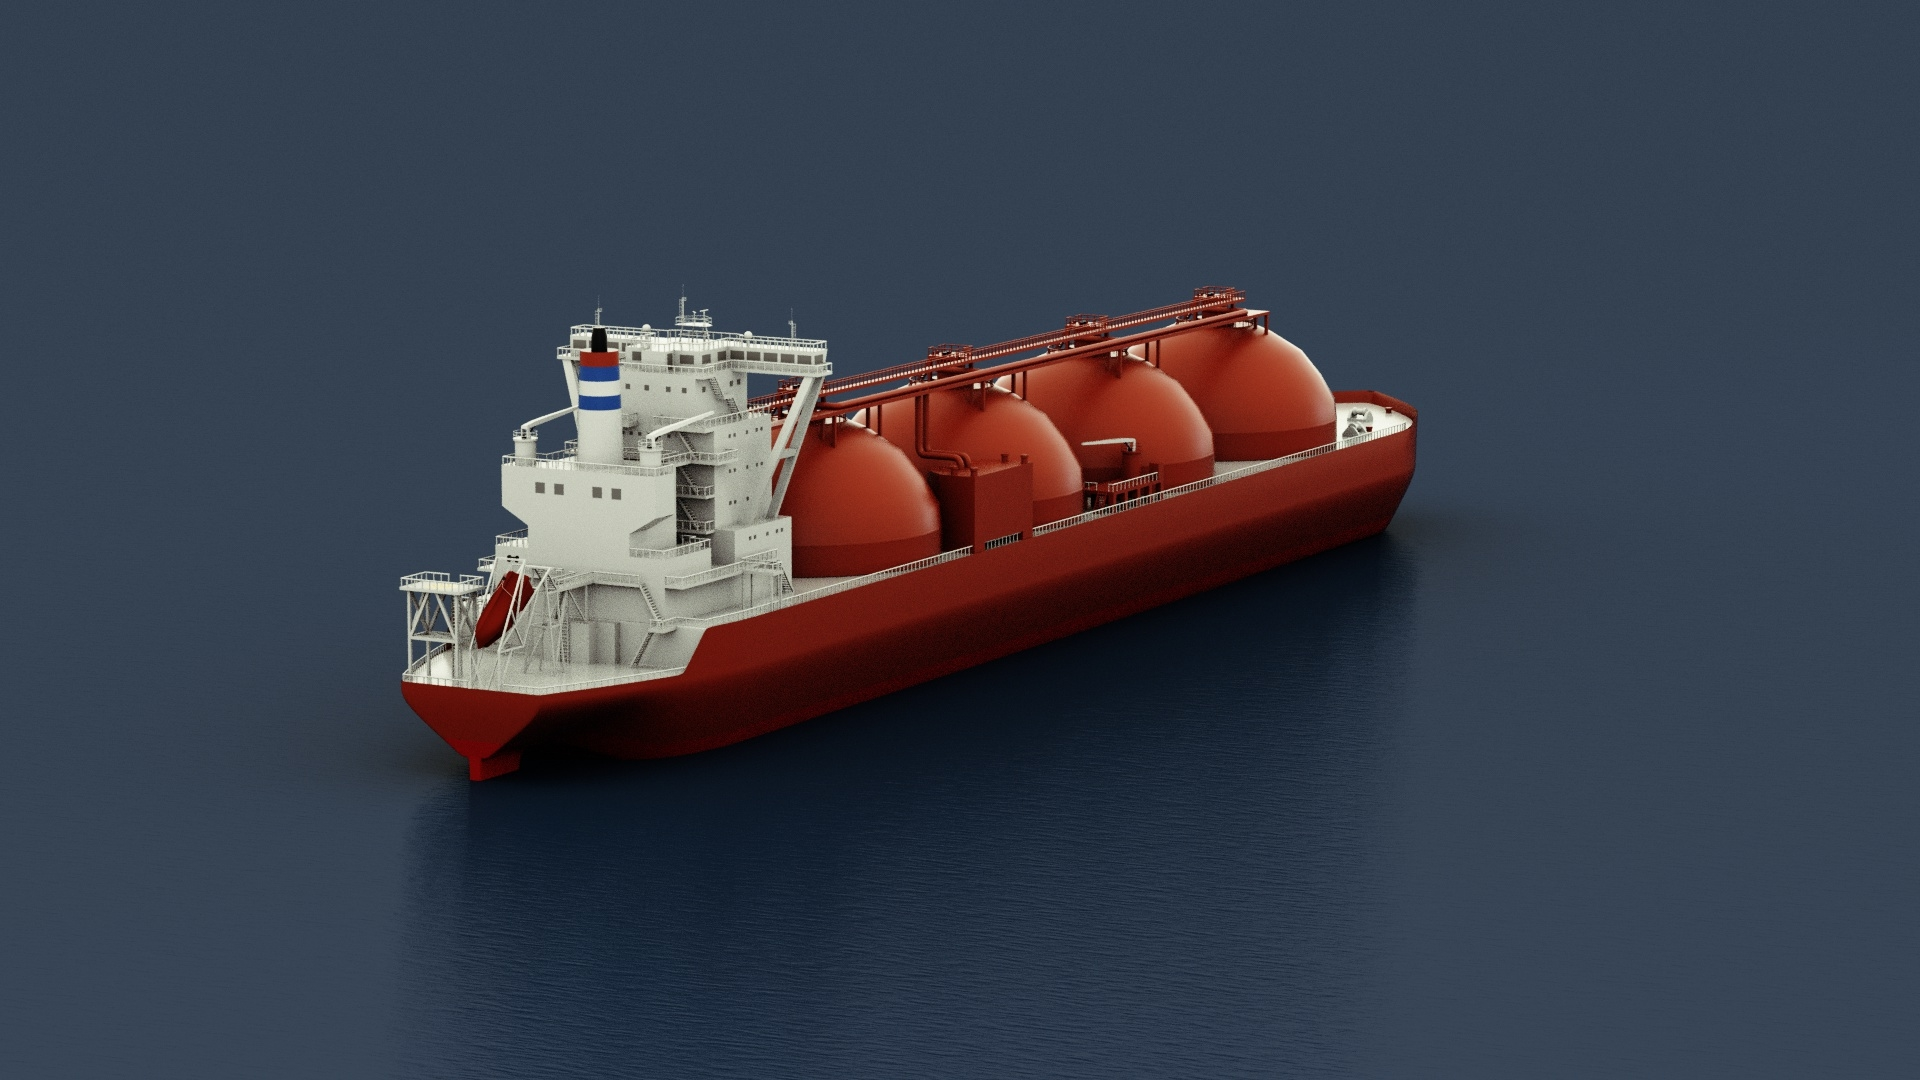Cargoship: (404, 287, 1411, 789)
